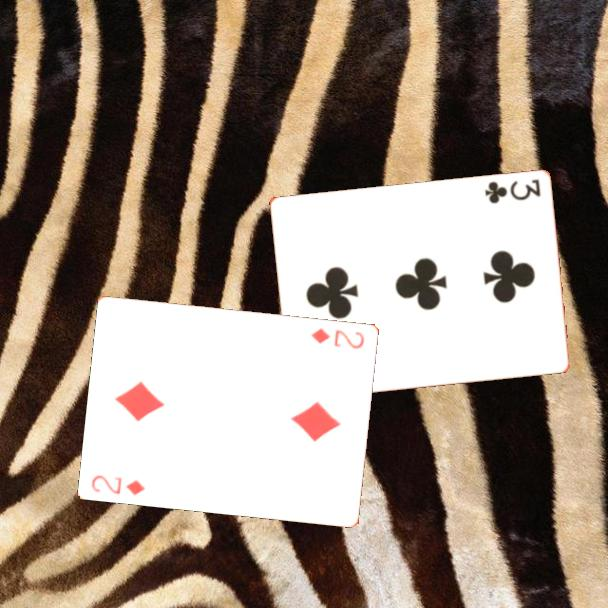c03: (481, 176, 543, 206)
d02: (307, 324, 368, 352), (88, 471, 148, 498)
